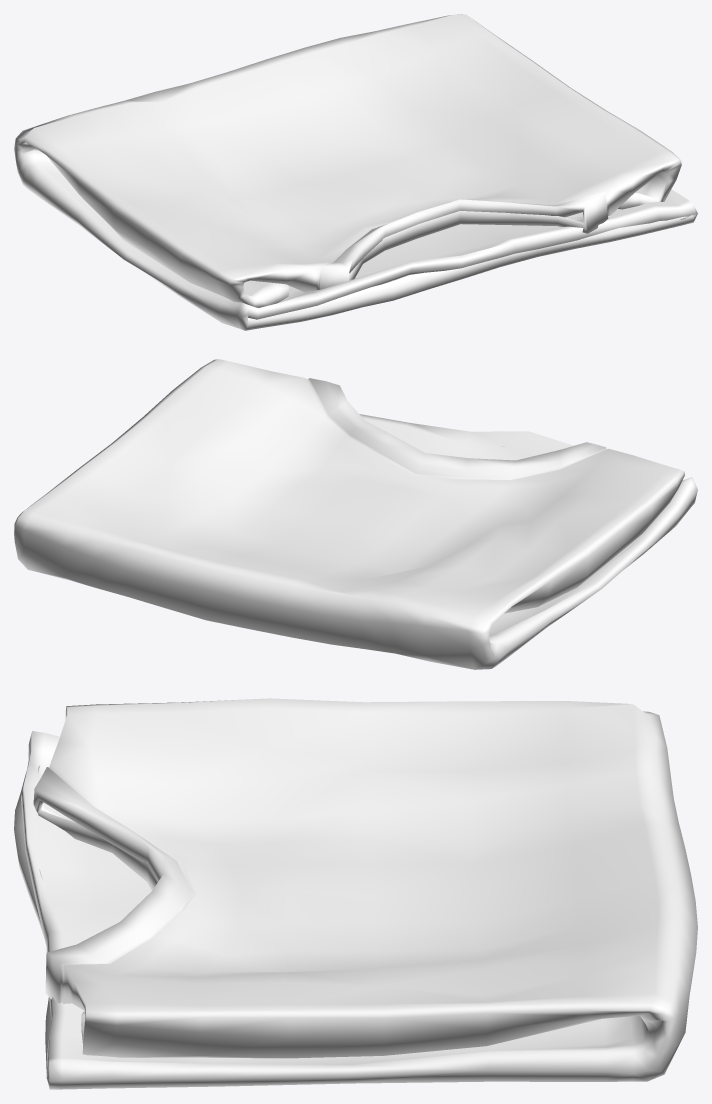
Rendered from Folded_T_Shirt38.fbx.
3 renders of one model, top to bottom at view 1: azimuth 30°, elevation 25°; view 2: azimuth 150°, elevation 25°; view 3: azimuth 270°, elevation 25°, orthographic. The views are drawn at different scales.
Parts seen in each view (by area): view 1: Folded_T_Shirt38; view 2: Folded_T_Shirt38; view 3: Folded_T_Shirt38.
Part boxes in pixels (bbox=[...]): Folded_T_Shirt38: bbox=[14, 14, 697, 330]; Folded_T_Shirt38: bbox=[14, 359, 697, 669]; Folded_T_Shirt38: bbox=[14, 698, 697, 1089].
Size of the model in its own units: 36.96 by 4.2 by 32.8.
Materials: 1 (1 with a texture image).
